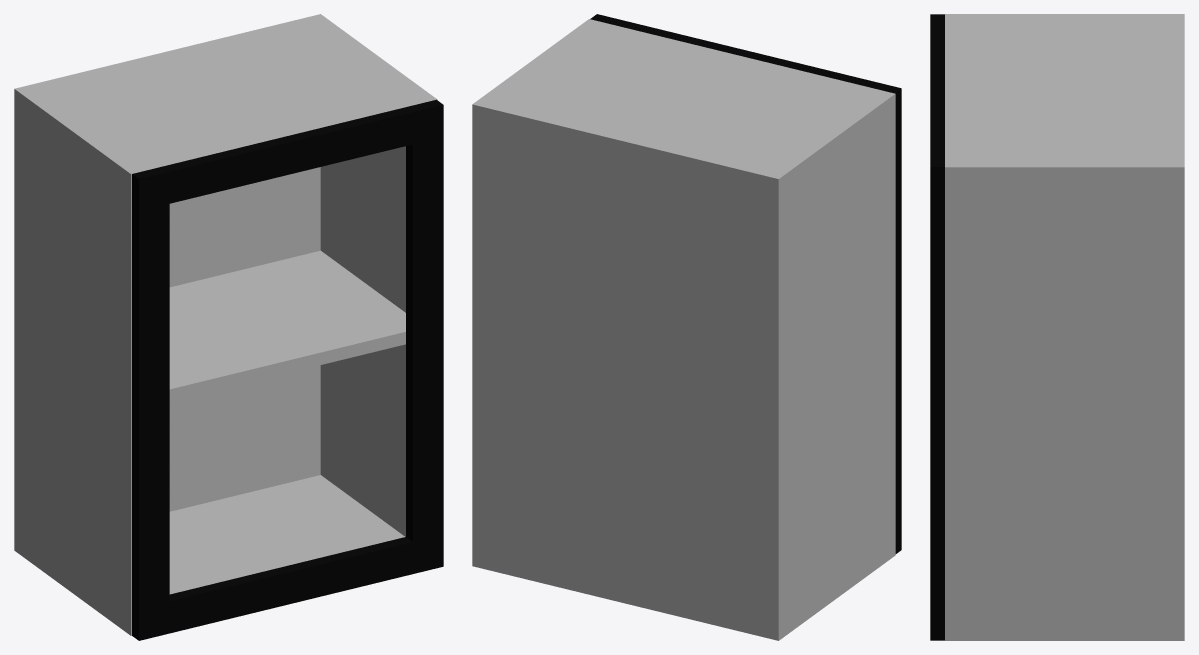
File: mal50.glb
The picture shows the model from 3 angles, left to right: view 1: azimuth 30°, elevation 25°; view 2: azimuth 150°, elevation 25°; view 3: azimuth 270°, elevation 25°; orthographic projection. The views are drawn at different scales.
Visible parts, largest first — view 1: Box001, Box002; view 2: Box001, Box002; view 3: Box001, Box002.
Part boxes in pixels (x1,y1,x2,y2): Box001: (14, 14, 437, 635); Box002: (132, 99, 443, 640); Box001: (472, 19, 895, 640); Box002: (590, 14, 901, 553); Box001: (945, 14, 1184, 640); Box002: (930, 14, 944, 640).
Size of the model in its own units: 0.5 by 0.72 by 0.35.
Materials: 2 (1 with a texture image).
